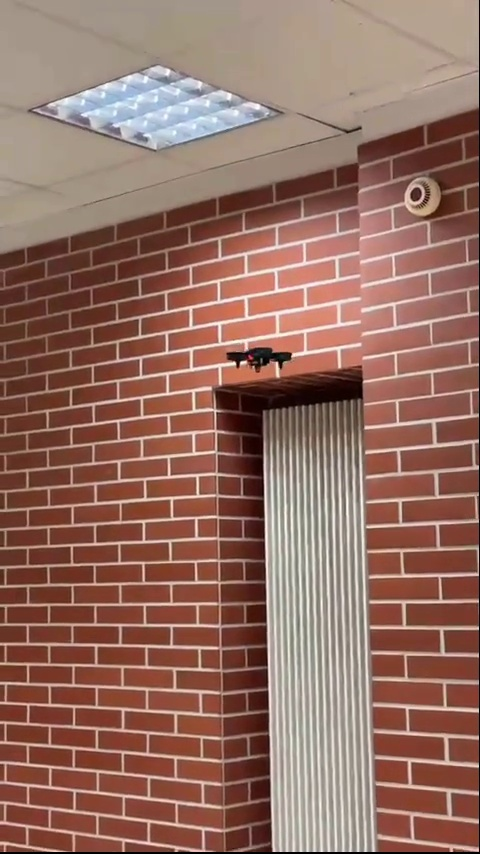drone: (224, 346, 293, 374)
